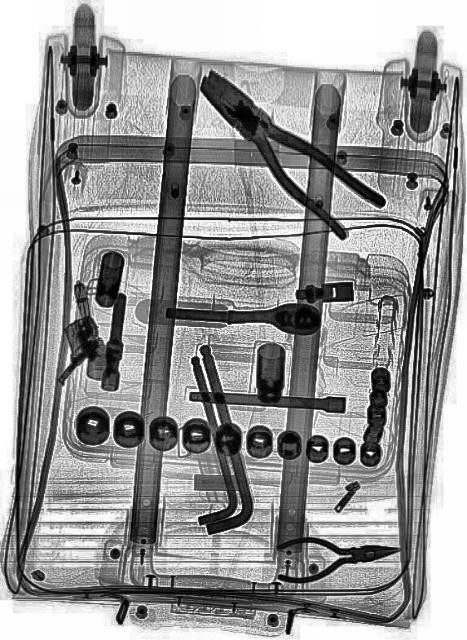Gun: (38, 278, 105, 384)
Pliers: (188, 46, 386, 254), (275, 525, 403, 585)
